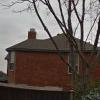Chimney: (21, 23, 42, 46)
